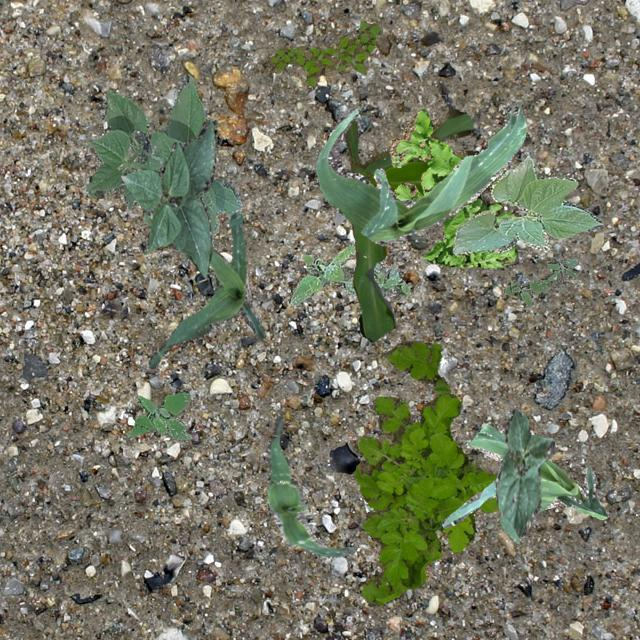crop: (343, 107, 499, 340), (314, 103, 526, 245), (85, 74, 242, 242), (148, 210, 264, 368), (440, 422, 606, 526), (452, 154, 602, 256), (120, 119, 214, 278), (264, 414, 354, 556), (494, 408, 554, 542), (364, 499, 374, 512)
weed: (353, 340, 498, 604), (388, 108, 520, 266), (287, 240, 408, 306), (266, 20, 378, 86), (502, 258, 576, 306), (126, 390, 190, 440)
